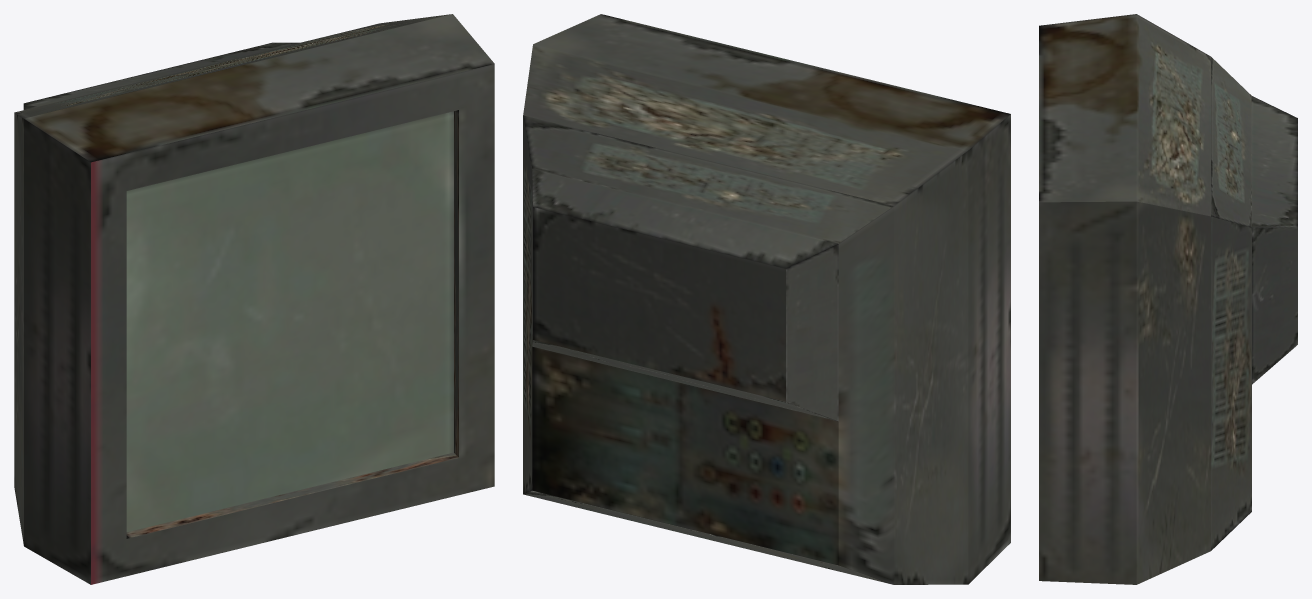
The model's file is CRT_Tv.fbx.
3 renders of one model, left to right at view 1: azimuth 30°, elevation 25°; view 2: azimuth 150°, elevation 25°; view 3: azimuth 270°, elevation 25°, orthographic. The views are drawn at different scales.
Parts seen in each view (by area): view 1: Tv; view 2: Tv; view 3: Tv.
Boxes of the visible parts, x1,y1,x2,y2 form: Tv: (14,14,494,584); Tv: (523,14,1010,584); Tv: (1039,14,1297,584).
Bounding box in the file's own units: 212 × 203 × 124.
Materials: 1 (1 with a texture image).
